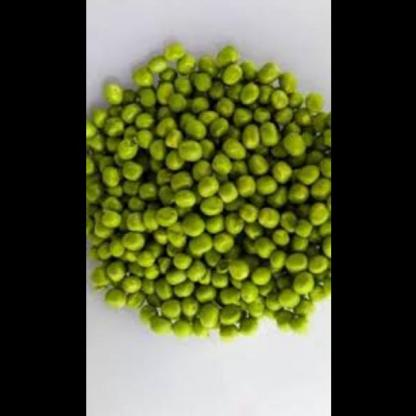peas: (87, 36, 329, 340)
